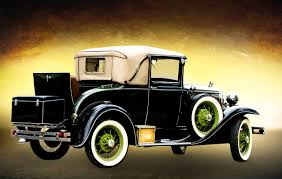car: (9, 44, 268, 167)
